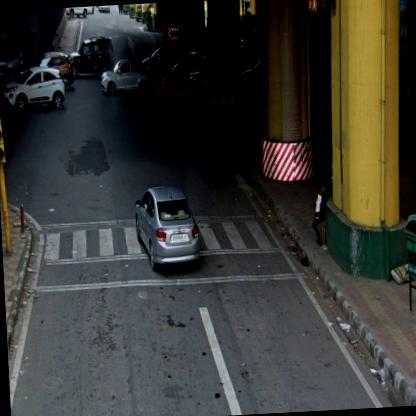car: (132, 184, 200, 271), (2, 66, 66, 110), (66, 30, 115, 78), (140, 42, 195, 80), (98, 58, 150, 94), (27, 52, 73, 92), (162, 56, 205, 94), (0, 41, 25, 84), (64, 6, 86, 21), (80, 6, 94, 16), (96, 4, 110, 13)
